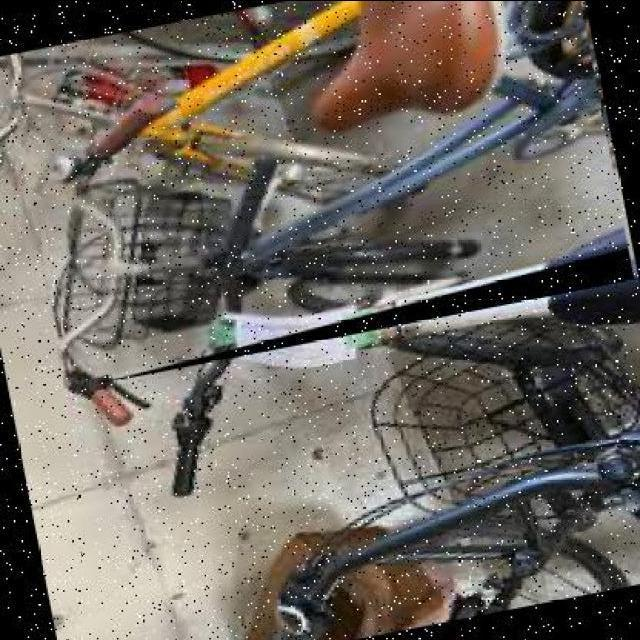bicycle: (3, 2, 637, 391)
